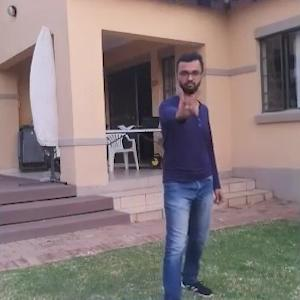takeoff-hand: (169, 82, 204, 122)
